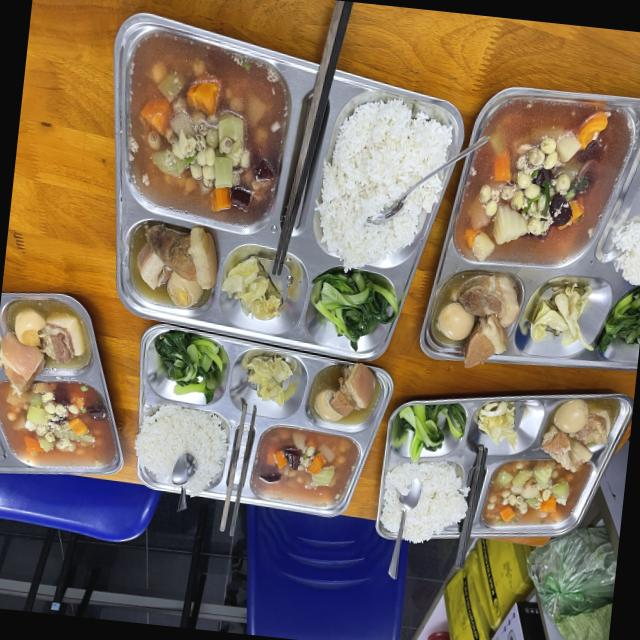com: (318, 98, 451, 268), (135, 404, 229, 493), (380, 461, 468, 543), (611, 221, 640, 285)
kho trung: (438, 274, 519, 367), (0, 308, 85, 394), (137, 224, 217, 308), (541, 399, 610, 469), (314, 363, 375, 421)
rau: (529, 283, 640, 350), (310, 270, 398, 350), (154, 331, 223, 403), (221, 256, 282, 320), (398, 404, 466, 461), (242, 354, 293, 406), (474, 401, 517, 450)
